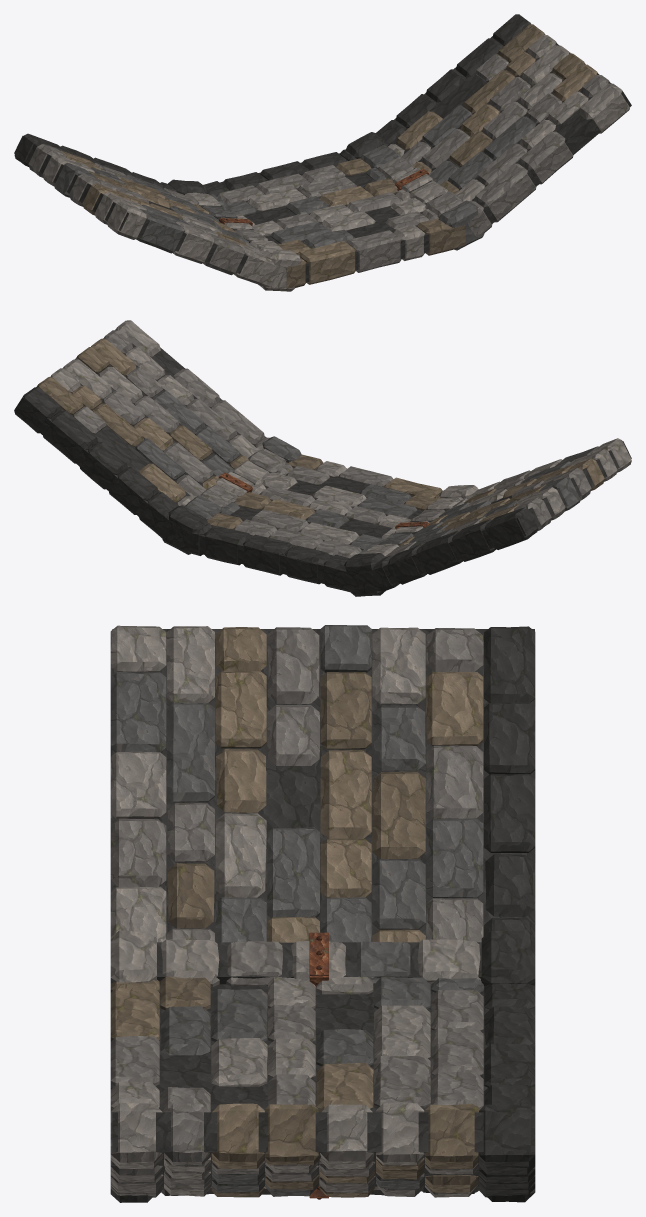
Rendered from spire_wall_chunk__cut_stone.glb.
3 renders of one model, top to bottom at view 1: azimuth 30°, elevation 25°; view 2: azimuth 150°, elevation 25°; view 3: azimuth 270°, elevation 25°, orthographic. The views are drawn at different scales.
Visible parts, largest first — view 1: model; view 2: model; view 3: model.
Part boxes in pixels (box(x1,y1,x2,y2)): model: box(14, 14, 631, 291); model: box(14, 320, 631, 596); model: box(110, 625, 535, 1202).
Size of the model in its own units: 5.57 by 1.27 by 1.99.
Materials: 8 (8 with a texture image).
